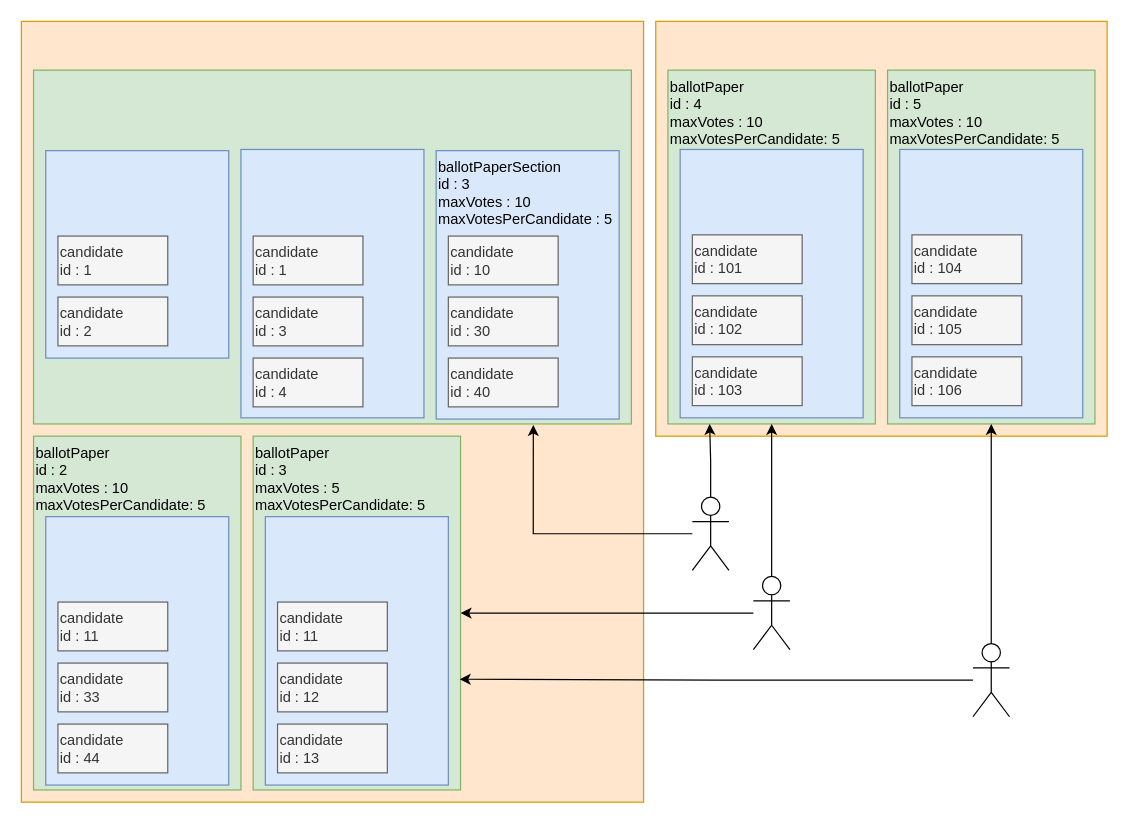
The diagram is 1129 pixels wide and 824 high, and some of its shapes have lost their labels. Each missing label, with the box of its shape:
ballotPaper id : 1 maxVotes : 10 maxVotesPerCandidate: 5: (32, 69, 631, 424)
ballotPaperSection id : 1 maxVotes : 5 maxVotesPerCandidate : 3: (45, 149, 229, 358)
ballotPaperSection id : 2 maxVotes : 10 maxVotesPerCandidate : 5: (240, 148, 424, 418)
ballotPaperSection id : 4 maxVotes : 10 maxVotesPerCandidate : 5: (45, 515, 229, 785)
ballotPaperSection id : 5 maxVotes : 5 maxVotesPerCandidate : 5: (264, 515, 448, 785)
ballotPaperSection id : 6 maxVotes : 10 maxVotesPerCandidate : 5: (679, 148, 863, 418)
ballotPaperSection id : 7 maxVotes : 5 maxVotesPerCandidate : 5: (899, 148, 1083, 418)
election id : 1: (20, 20, 644, 802)
election id : 2: (655, 20, 1107, 436)
voter.id : 1: (691, 496, 729, 570)
voter.id : 2: (752, 575, 790, 650)
voter.id : 3: (972, 642, 1010, 717)
